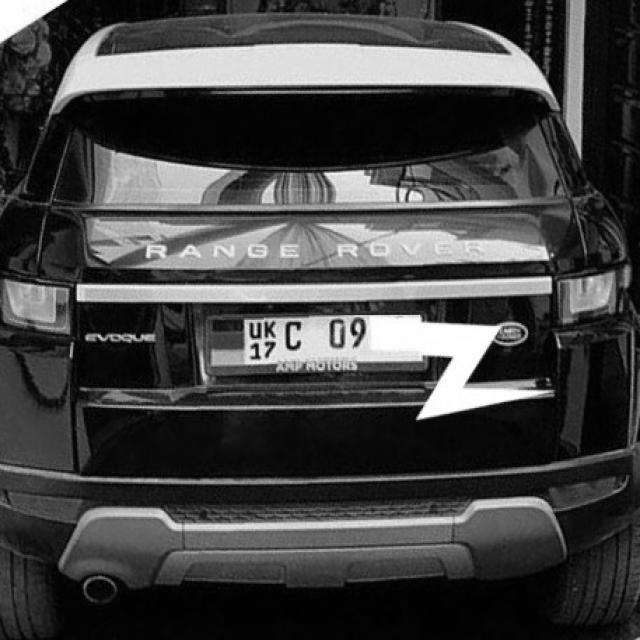licence: (241, 315, 420, 361)
